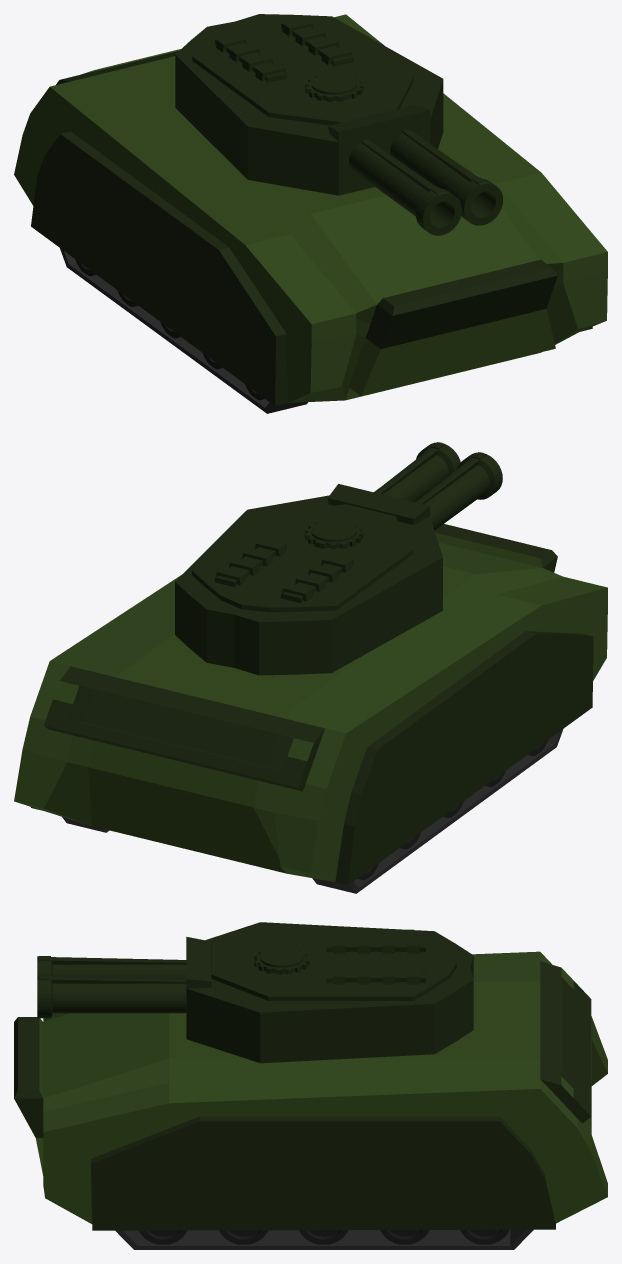
Rendered from tier2.obj.
The picture shows the model from 3 angles, top to bottom: view 1: azimuth 30°, elevation 25°; view 2: azimuth 150°, elevation 25°; view 3: azimuth 270°, elevation 25°; orthographic projection. The views are drawn at different scales.
Visible parts, largest first — view 1: Body5_Cube.073, Turret5_Cylinder.021, Main_Gun5_Cylinder.022, Tracks5_Cube.072, Road_Wheels5_Cube.074; view 2: Body5_Cube.073, Turret5_Cylinder.021, Main_Gun5_Cylinder.022, Tracks5_Cube.072; view 3: Body5_Cube.073, Turret5_Cylinder.021, Main_Gun5_Cylinder.022, Tracks5_Cube.072, Road_Wheels5_Cube.074.
Part boxes in pixels (bbox=[...]): Body5_Cube.073: bbox=[14, 14, 607, 406]; Turret5_Cylinder.021: bbox=[175, 14, 443, 195]; Main_Gun5_Cylinder.022: bbox=[328, 105, 503, 235]; Tracks5_Cube.072: bbox=[60, 248, 307, 413]; Road_Wheels5_Cube.074: bbox=[75, 259, 264, 400]; Body5_Cube.073: bbox=[14, 524, 607, 885]; Turret5_Cylinder.021: bbox=[175, 495, 442, 675]; Main_Gun5_Cylinder.022: bbox=[328, 442, 502, 530]; Tracks5_Cube.072: bbox=[62, 729, 563, 893]; Body5_Cube.073: bbox=[14, 951, 607, 1230]; Turret5_Cylinder.021: bbox=[186, 922, 473, 1063]; Main_Gun5_Cylinder.022: bbox=[37, 936, 211, 1038]; Tracks5_Cube.072: bbox=[115, 1229, 533, 1249]; Road_Wheels5_Cube.074: bbox=[139, 1229, 509, 1244].
Size of the model in its own units: 3.86 by 2.77 by 6.59.
